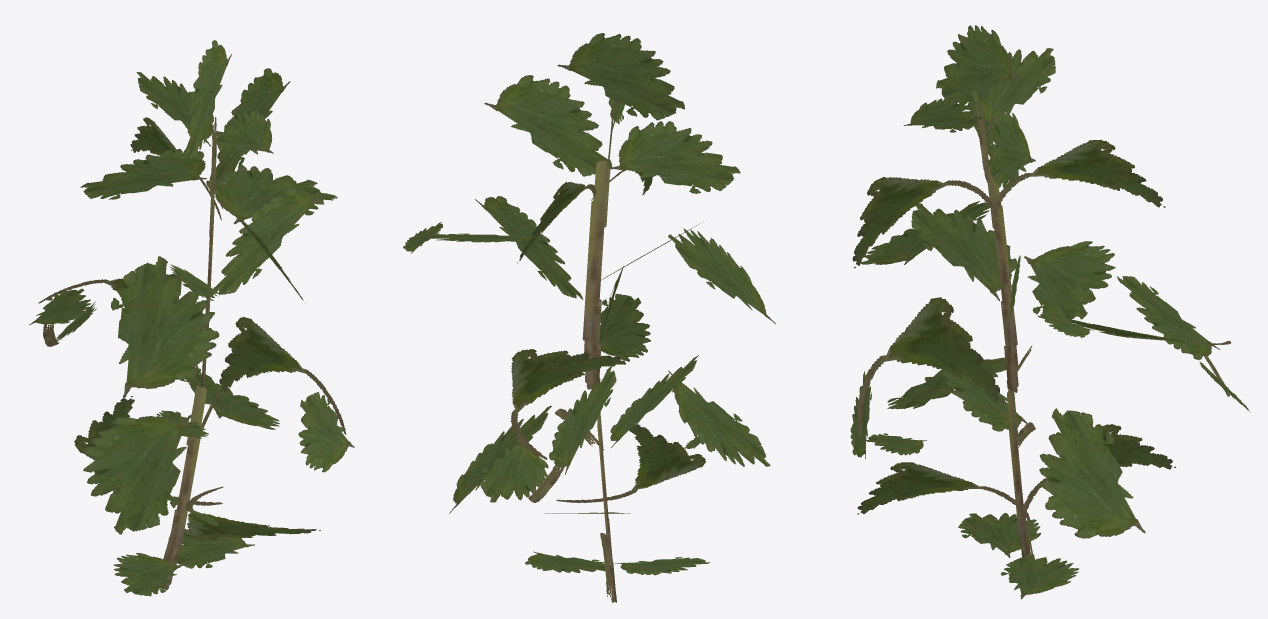
3 renders of one model, left to right at view 1: azimuth 30°, elevation 25°; view 2: azimuth 150°, elevation 25°; view 3: azimuth 270°, elevation 25°, orthographic. The views are drawn at different scales.
Parts seen in each view (by area): view 1: nettle_plant__a_lod1; view 2: nettle_plant__a_lod1; view 3: nettle_plant__a_lod1.
Part boxes in pixels (left/top/right/bottom): nettle_plant__a_lod1: left=29, top=40, right=354, bottom=596; nettle_plant__a_lod1: left=403, top=33, right=775, bottom=602; nettle_plant__a_lod1: left=850, top=25, right=1249, bottom=599.
Bounding box in the file's own units: 0.083 × 0.1404 × 0.0946.
Materials: 1 (1 with a texture image).
